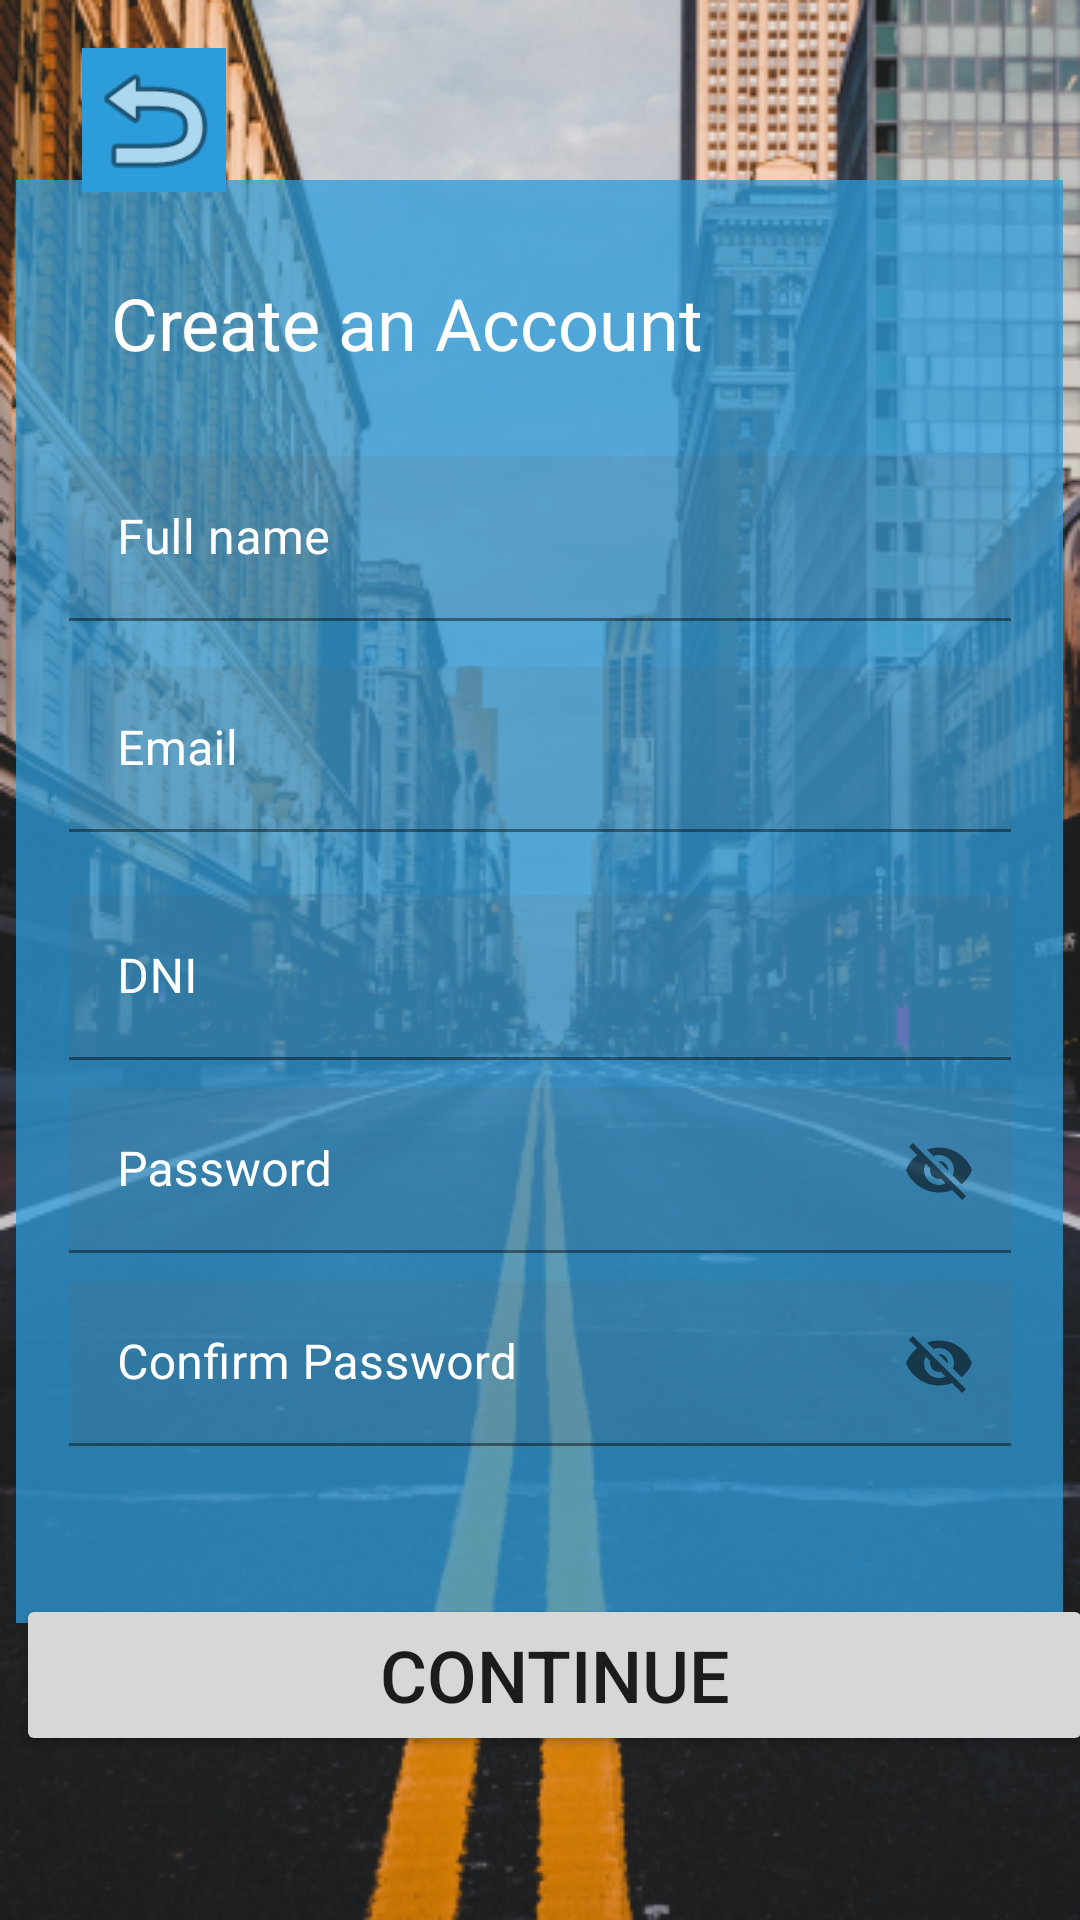

Icons on this 1080w x 1920h Android screen, each with the point to tap as [x,y]:
Return to: [154,120]
